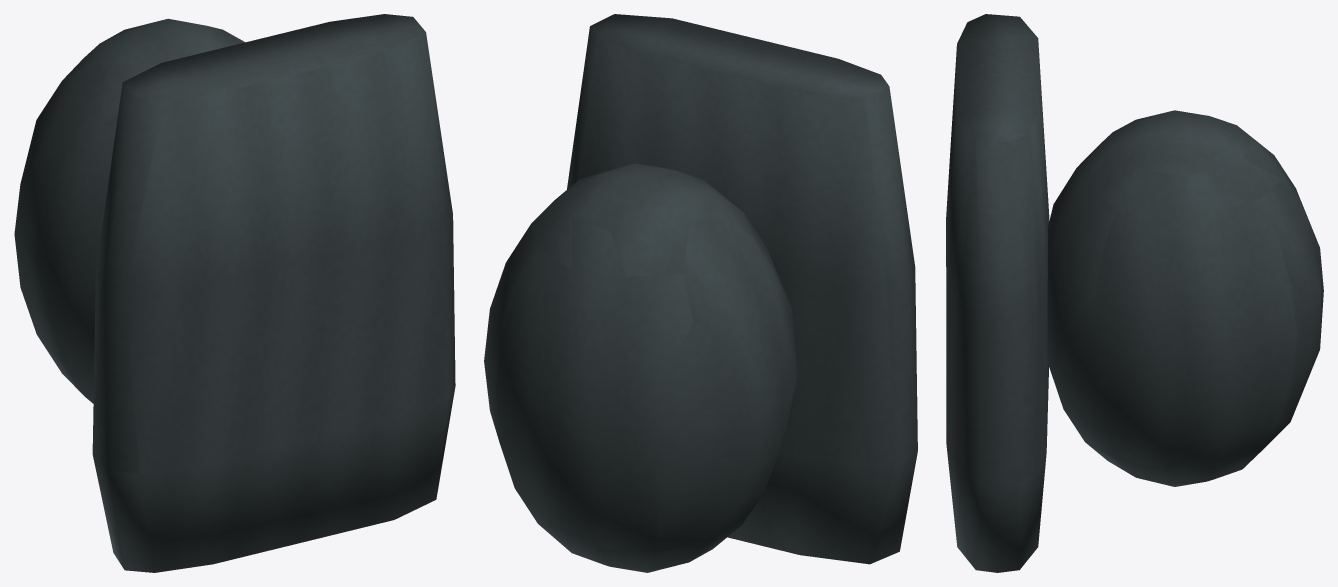
The model's file is neck_lod1.glb.
The picture shows the model from 3 angles, left to right: view 1: azimuth 30°, elevation 25°; view 2: azimuth 150°, elevation 25°; view 3: azimuth 270°, elevation 25°; orthographic projection. The views are drawn at different scales.
Parts seen in each view (by area): view 1: dormin_neck_LOD1; view 2: dormin_neck_LOD1; view 3: dormin_neck_LOD1.
Boxes of the visible parts, x1,y1,x2,y2 form: dormin_neck_LOD1: (14, 14, 455, 572); dormin_neck_LOD1: (484, 14, 917, 572); dormin_neck_LOD1: (946, 14, 1323, 572).
Bounding box in the file's own units: 1.95 × 2.53 × 2.04.
Materials: 1 (1 with a texture image).
